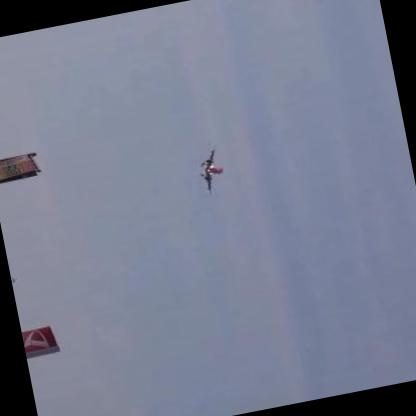plane: (191, 142, 230, 199)
